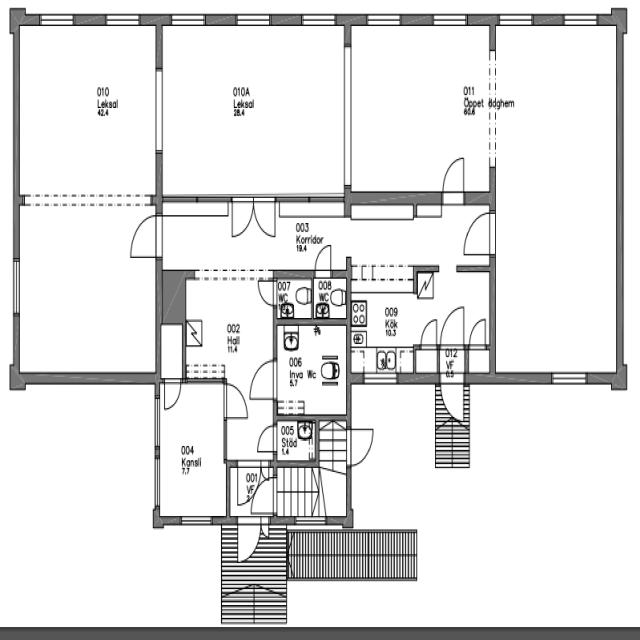door: (233, 459, 274, 512), (126, 208, 160, 261), (461, 207, 494, 257), (438, 151, 468, 204), (248, 355, 279, 403), (416, 311, 456, 348), (439, 302, 467, 348), (221, 380, 250, 422), (235, 520, 262, 564), (348, 424, 376, 466), (249, 473, 276, 514), (440, 382, 466, 422), (467, 337, 491, 370), (255, 422, 278, 454), (313, 241, 334, 276), (256, 274, 277, 308), (163, 376, 183, 410), (468, 314, 488, 348), (419, 315, 439, 347), (260, 516, 273, 541)
window: (151, 61, 166, 157), (252, 589, 288, 624), (560, 9, 602, 29), (364, 9, 403, 29), (300, 10, 338, 30), (360, 368, 400, 386), (168, 10, 207, 28), (38, 10, 77, 28), (104, 10, 142, 28), (431, 10, 469, 28), (496, 10, 534, 28), (550, 368, 590, 385), (235, 10, 272, 28), (11, 257, 22, 317), (152, 449, 162, 508), (179, 511, 214, 527)
zone: (491, 23, 619, 375), (158, 22, 347, 190), (347, 198, 496, 380), (347, 22, 496, 198), (16, 20, 159, 195), (14, 207, 158, 377), (183, 276, 277, 381), (158, 378, 227, 520), (274, 320, 348, 417), (230, 193, 276, 240), (232, 458, 271, 512), (275, 417, 316, 462), (275, 275, 313, 320), (313, 273, 347, 319), (466, 344, 491, 374)
